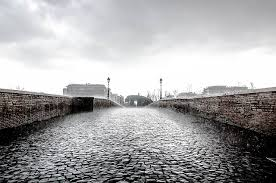strada: (1, 82, 257, 182)
